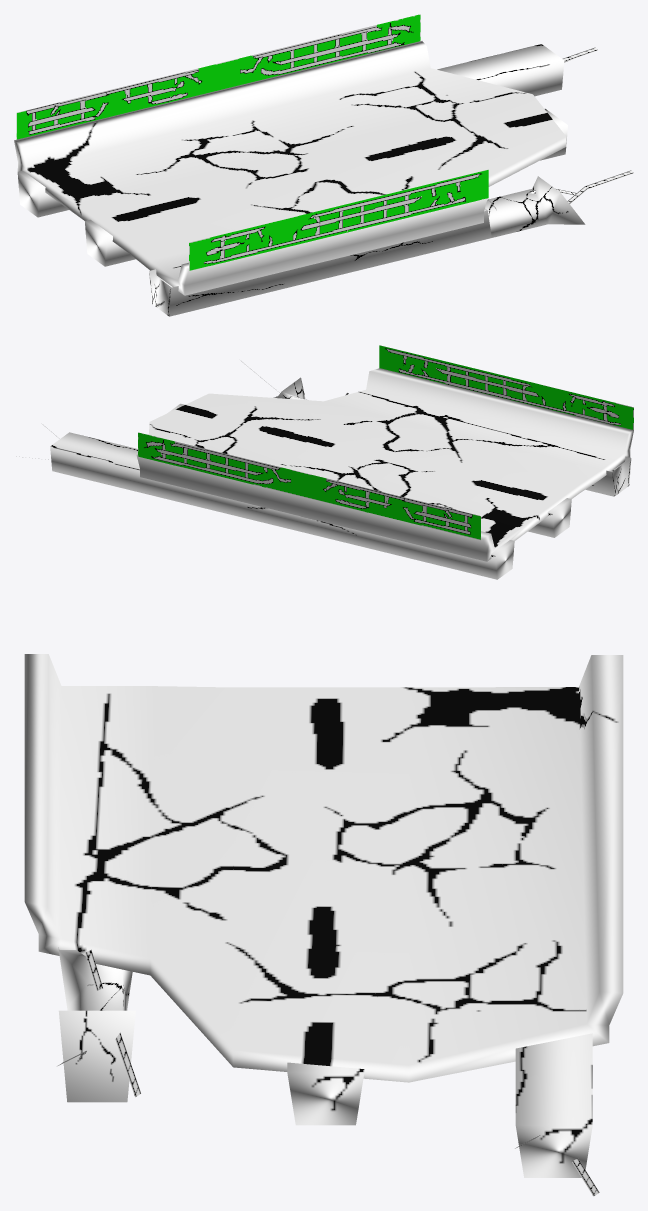
The model's file is Bridge_01_02.fbx.
The picture shows the model from 3 angles, top to bottom: view 1: azimuth 30°, elevation 25°; view 2: azimuth 150°, elevation 25°; view 3: azimuth 270°, elevation 25°; orthographic projection. The views are drawn at different scales.
Visible parts, largest first — view 1: Bridge_01_02; view 2: Bridge_01_02; view 3: Bridge_01_02.
Boxes of the visible parts, x1,y1,x2,y2 form: Bridge_01_02: (14,14,633,316); Bridge_01_02: (16,345,633,579); Bridge_01_02: (24,654,623,1196).
Size of the model in its own units: 32.91 by 5.04 by 17.65.
